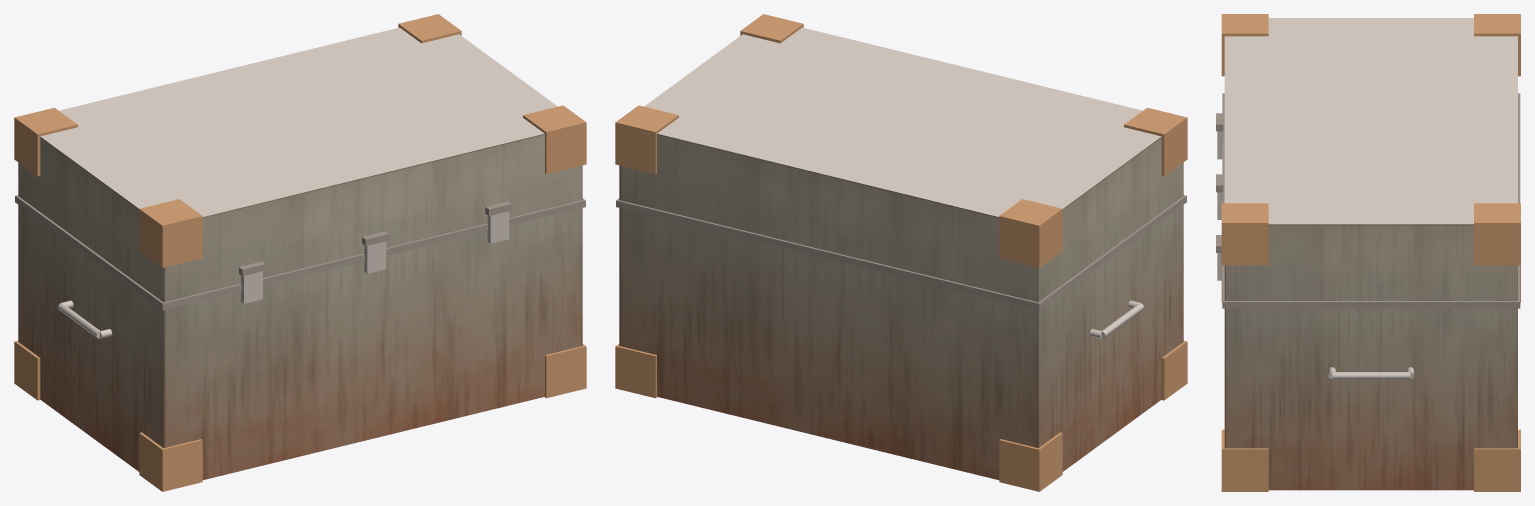
File: D02_crate_large.glb
3 views of the same model, side by side, from view 1: azimuth 30°, elevation 25°; view 2: azimuth 150°, elevation 25°; view 3: azimuth 270°, elevation 25° (orthographic).
Visible parts, largest first — view 1: shell, lid_seam, latch; view 2: shell, lid_seam; view 3: shell, lid_seam, latch.
Boxes of the visible parts, x1=… form: shell: x1=14, y1=14, x2=586, y2=491; lid_seam: x1=15, y1=195, x2=585, y2=310; latch: x1=58, y1=211, x2=509, y2=338; shell: x1=615, y1=14, x2=1187, y2=491; lid_seam: x1=616, y1=195, x2=1186, y2=310; shell: x1=1221, y1=14, x2=1520, y2=491; lid_seam: x1=1216, y1=93, x2=1520, y2=308; latch: x1=1217, y1=131, x2=1414, y2=379.
Bounding box in the file's own units: 2.13 × 1.21 × 1.25.
Materials: 5 (1 with a texture image).
